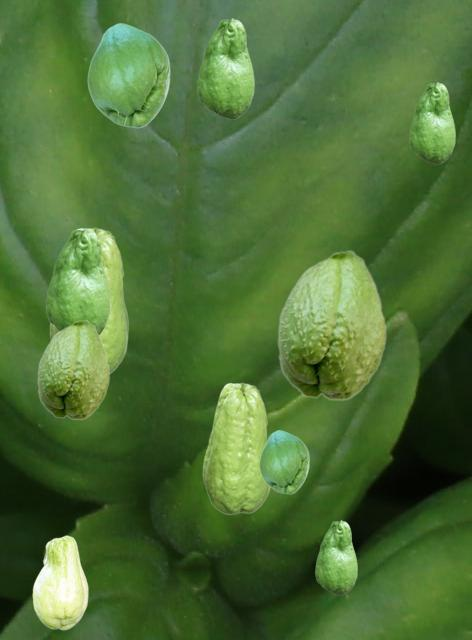sayote: (277, 249, 386, 400), (49, 227, 128, 374), (202, 382, 270, 514), (87, 23, 169, 127), (37, 319, 109, 419), (46, 228, 109, 335), (197, 18, 253, 118), (32, 535, 87, 629), (409, 82, 454, 163), (259, 430, 308, 493), (315, 520, 356, 594)
